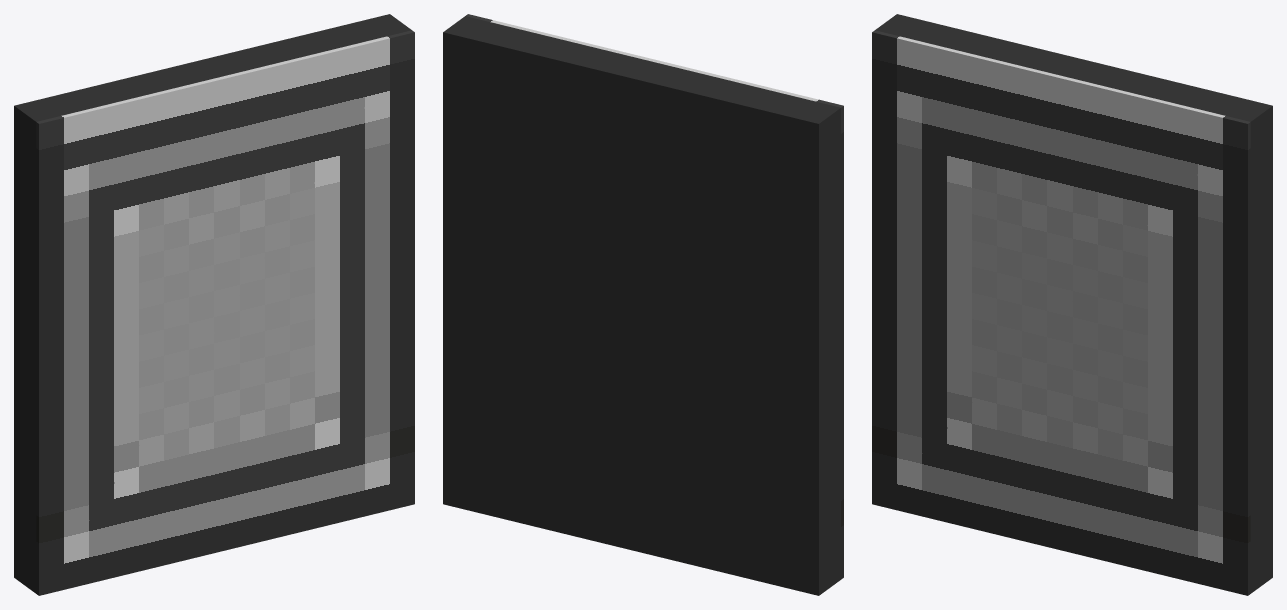
Rendered from CMU3DRectangularWallMirror.glb.
3 views of the same model, side by side, from view 1: azimuth 30°, elevation 25°; view 2: azimuth 150°, elevation 25°; view 3: azimuth 330°, elevation 25° (orthographic).
Parts seen in each view (by area): view 1: Original mirror face and frame, Source-profile backing rows 6-23; view 2: Source-profile backing rows 6-23, Original mirror face and frame; view 3: Original mirror face and frame, Source-profile backing rows 6-23.
Part boxes in pixels (x1,y1,x2,y2): Original mirror face and frame: (36,30,414,595); Source-profile backing rows 6-23: (14,14,411,593); Source-profile backing rows 6-23: (443,16,840,595); Original mirror face and frame: (466,14,843,579); Original mirror face and frame: (872,30,1250,595); Source-profile backing rows 6-23: (875,14,1272,593).
Bounding box in the file's own units: 0.4688 × 0.5625 × 0.054.
Materials: 2 (1 with a texture image).
